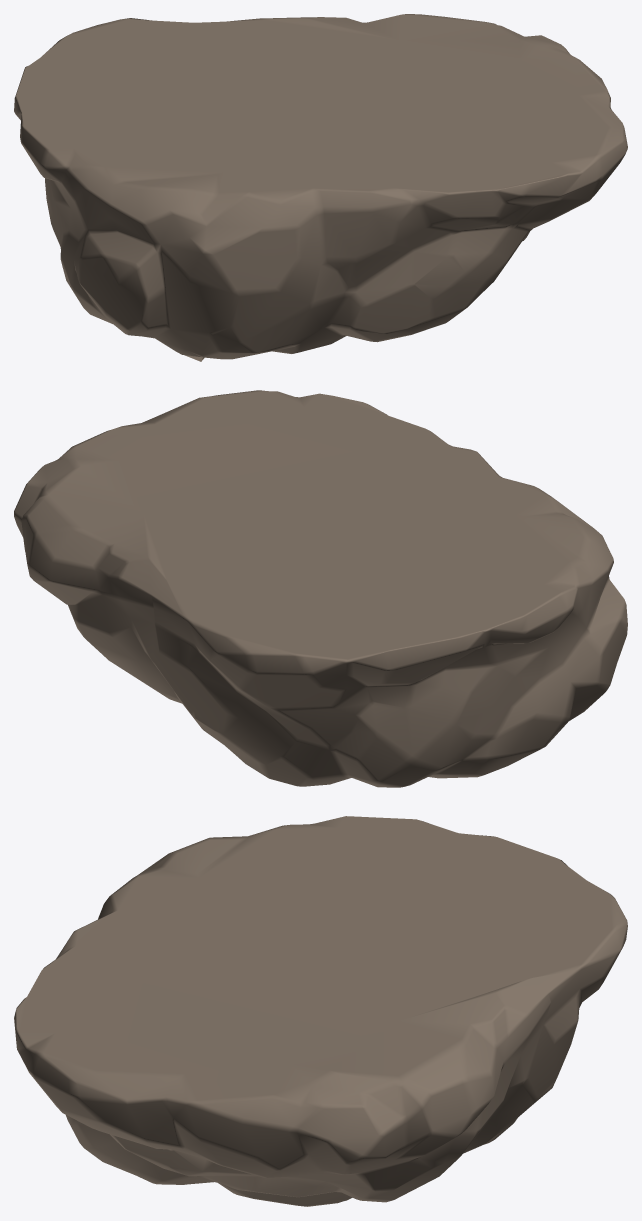
Rendered from IlhaP2.fbx.
3 renders of one model, top to bottom at view 1: azimuth 30°, elevation 25°; view 2: azimuth 150°, elevation 25°; view 3: azimuth 270°, elevation 25°, orthographic. The views are drawn at different scales.
Visible parts, largest first — view 1: IlhaP2; view 2: IlhaP2; view 3: IlhaP2.
Part boxes in pixels (box(x1,y1,x2,y2)): IlhaP2: box(14, 14, 627, 361); IlhaP2: box(14, 390, 627, 787); IlhaP2: box(14, 816, 627, 1206).
Size of the model in its own units: 1128 by 441 by 1020.
